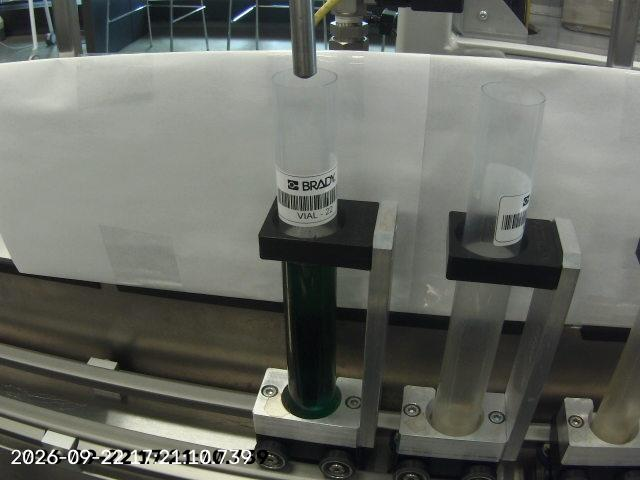vial: (427, 79, 547, 437), (268, 67, 340, 419)
